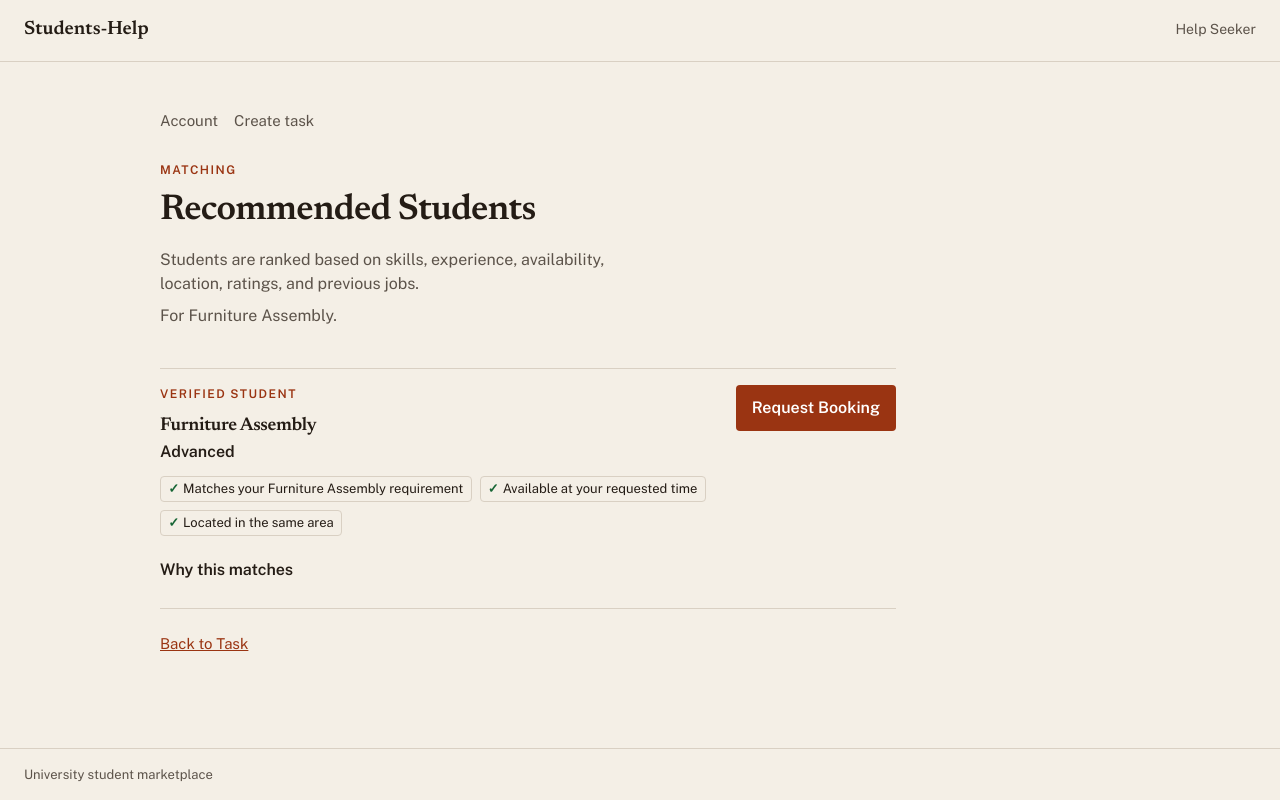
Test: Recommended Students page › opens and closes the expanded explanation with pointer and keyboard
Click the button "Why this matches" at (227,570), box [160, 548, 293, 592]
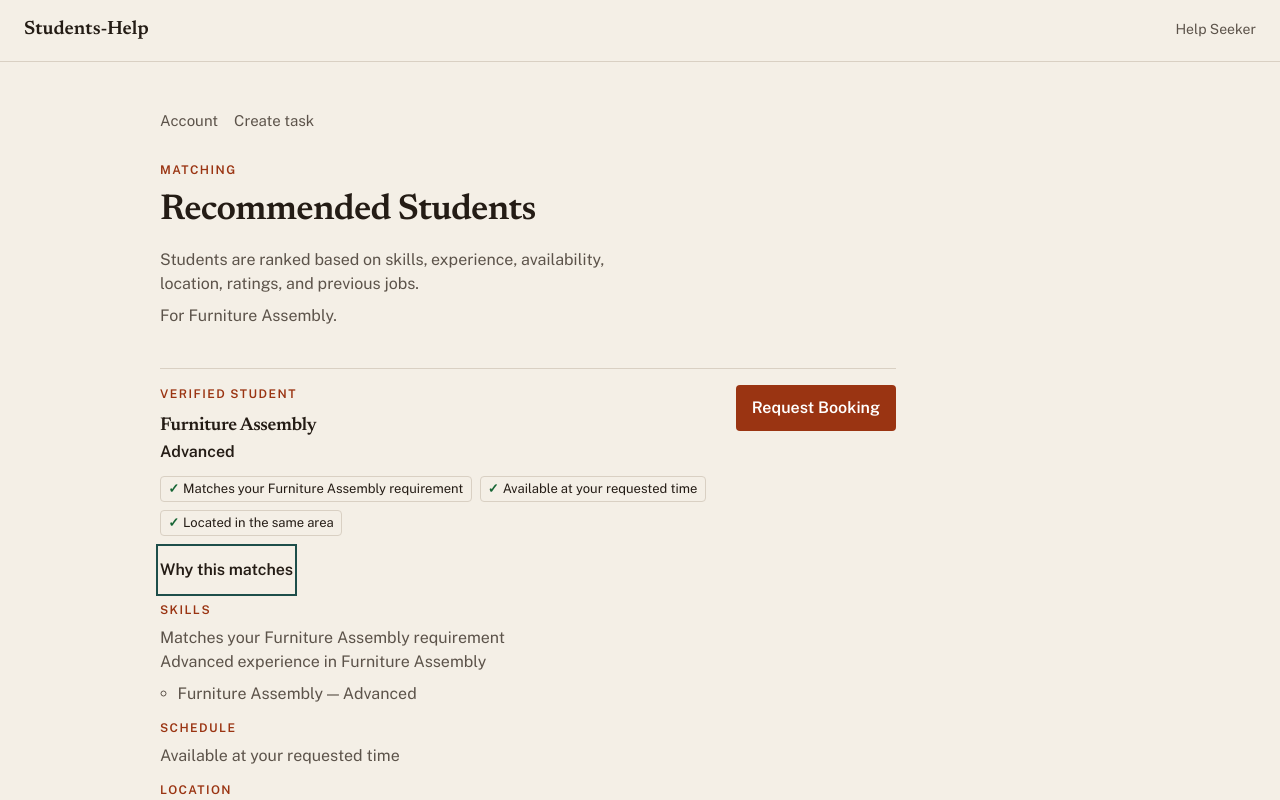
Now the heading "Schedule" is shown, box [160, 721, 236, 735]
Now the heading "Location" is shown, box [160, 783, 232, 797]
Now the text "Advanced experience in Furniture Assembly" is shown, box [160, 652, 486, 671]
Click the button "Why this matches" at (227,570), box [160, 548, 293, 592]
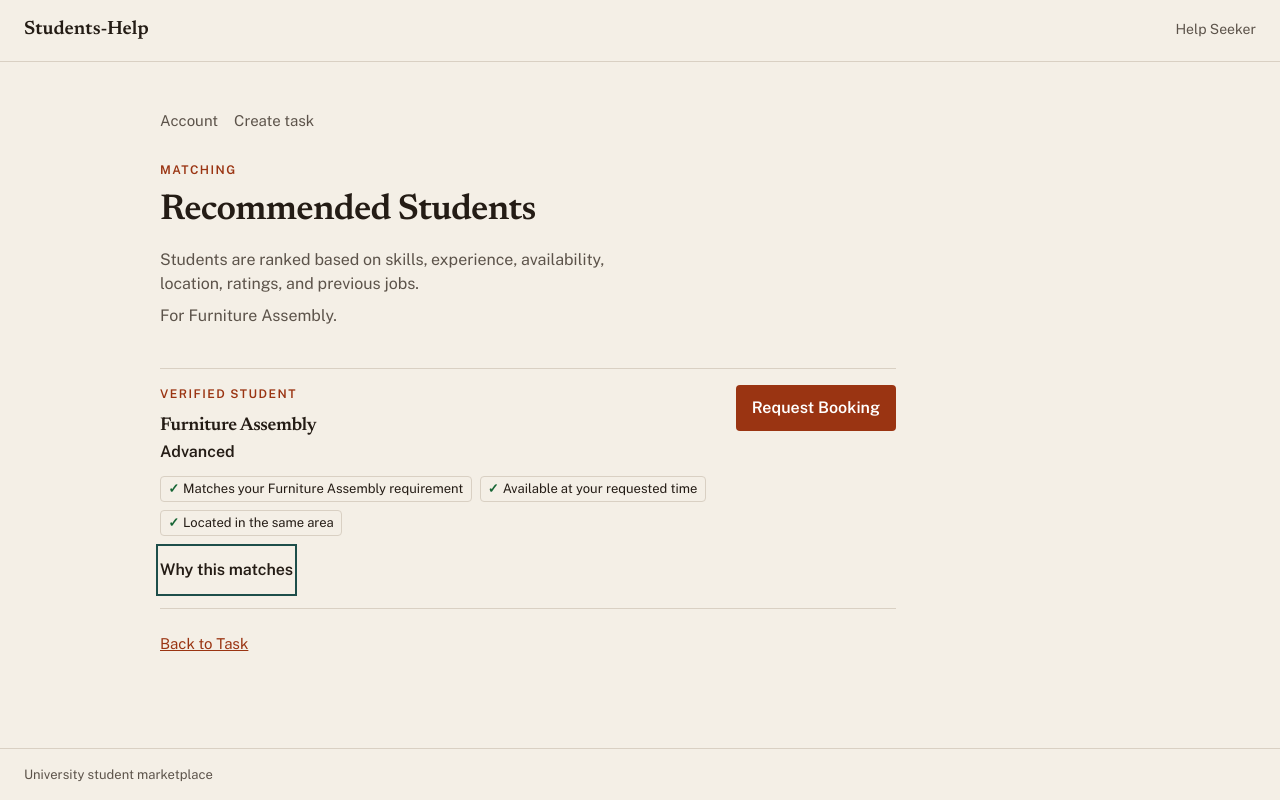
Now the heading "Schedule" is gone
Press Enter
(page scrolled)
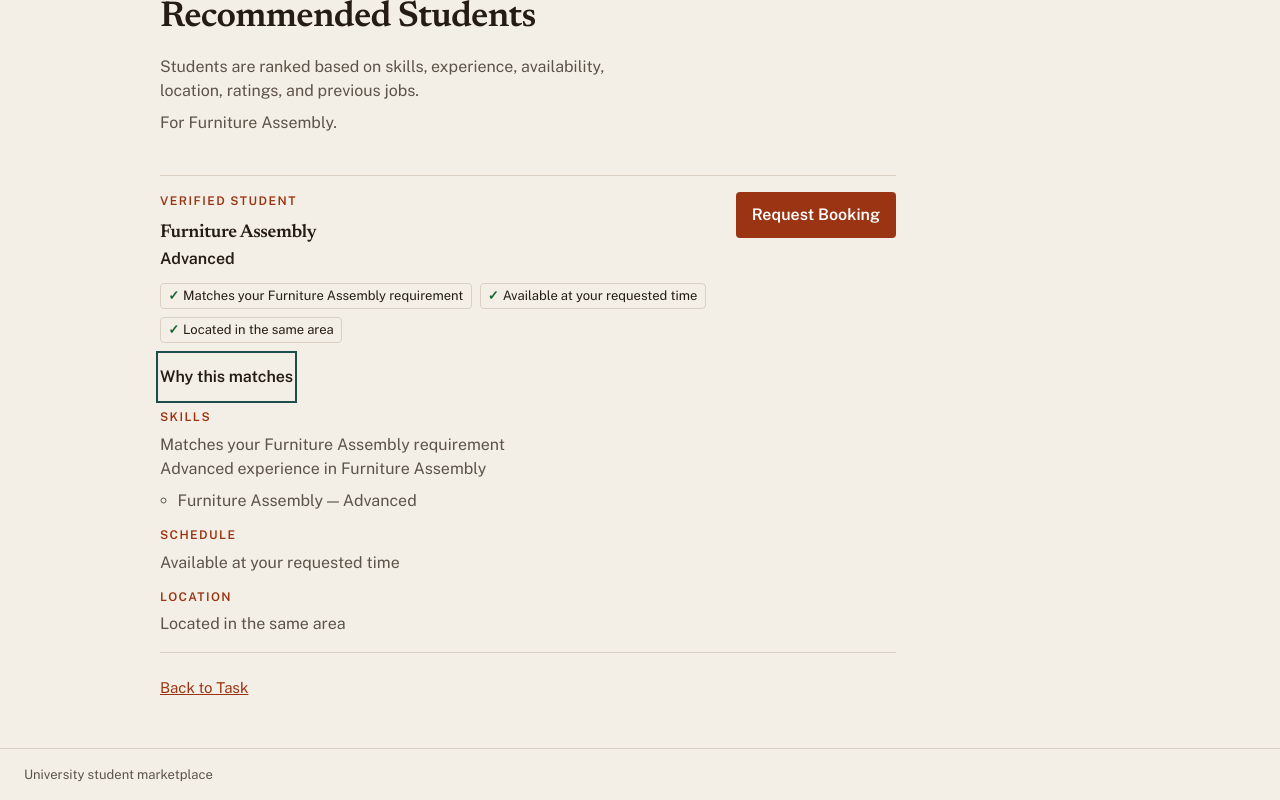
Now the button "Why this matches" is expanded, box [160, 355, 293, 399]
Now the element named "Match explanation" is shown, box [160, 410, 505, 634]
